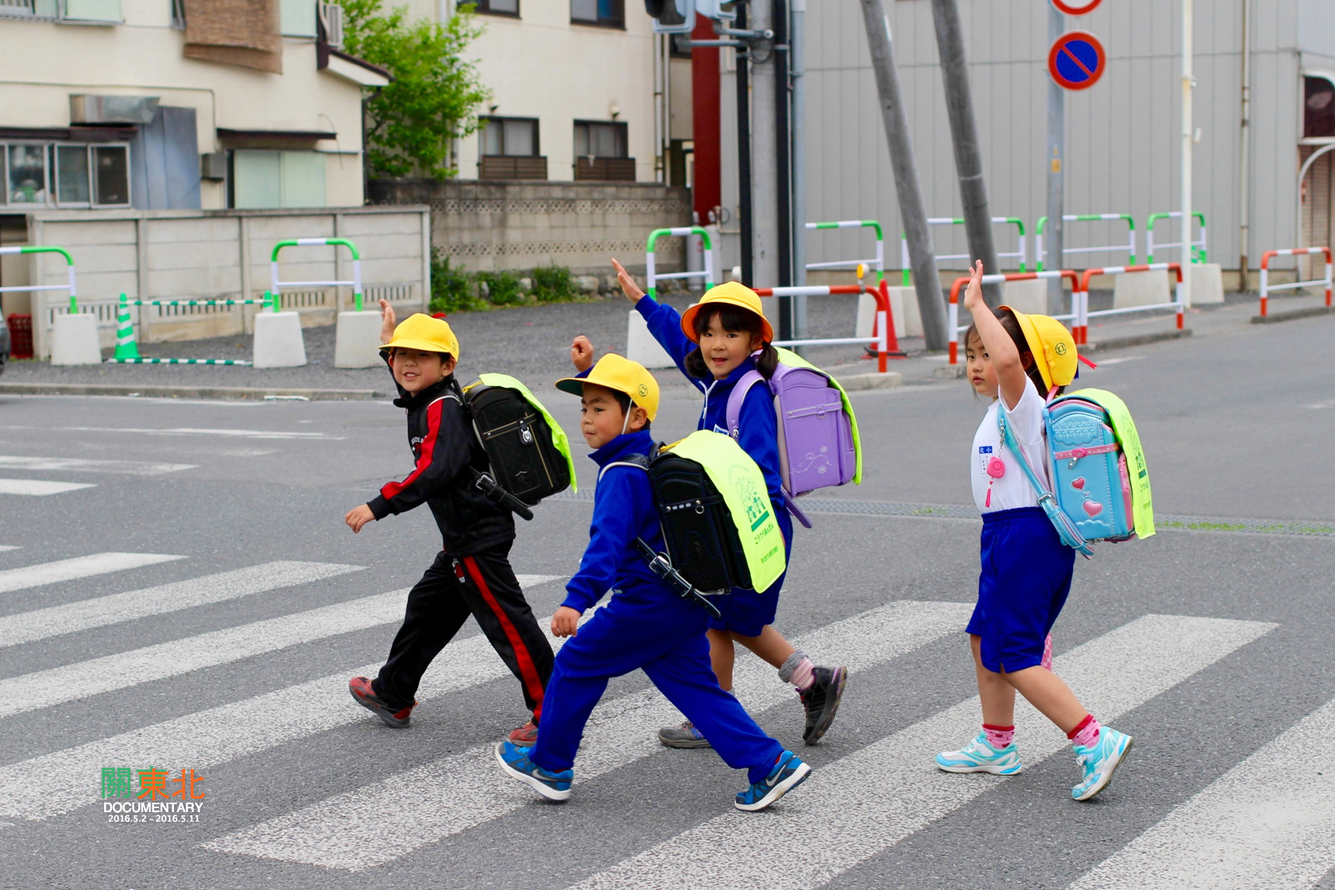handsup: (491, 327, 818, 818), (319, 277, 600, 741), (949, 237, 1163, 800)
